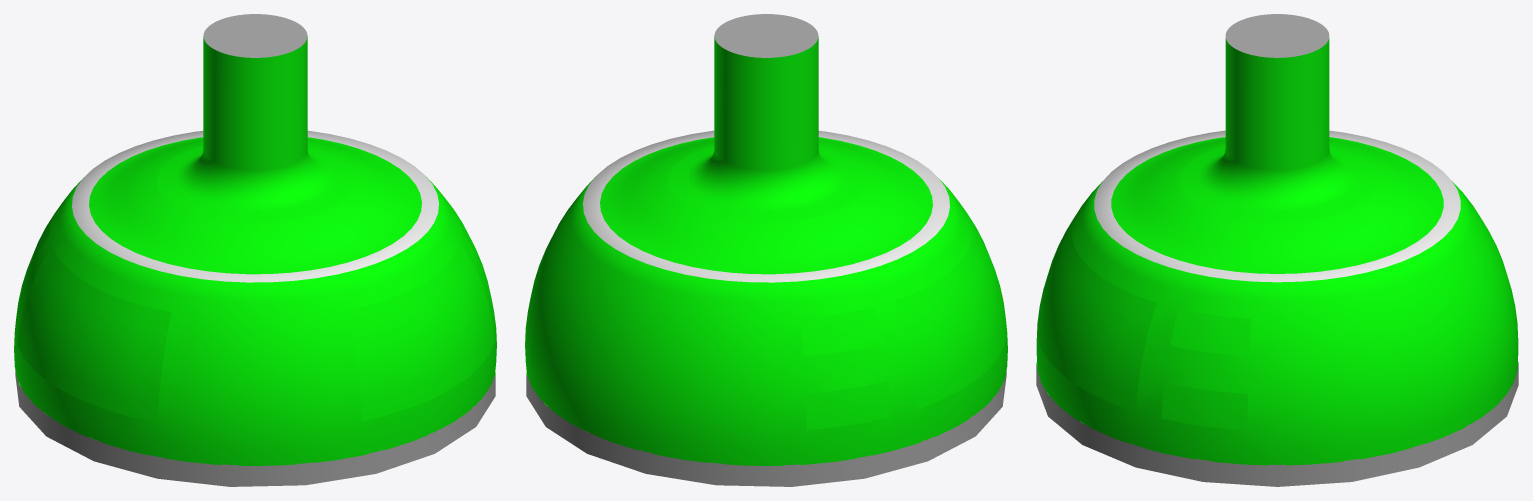
File: Dome2.fbx
3 renders of one model, left to right at view 1: azimuth 30°, elevation 25°; view 2: azimuth 150°, elevation 25°; view 3: azimuth 270°, elevation 25°, orthographic.
Visible parts, largest first — view 1: polySurface1, polySurface3, polySurface4, Floor; view 2: polySurface1, polySurface3, Floor, polySurface2, polySurface6; view 3: polySurface1, polySurface4, Floor, polySurface5, polySurface7.
Boxes of the visible parts, x1=… form: polySurface1: x1=14, y1=14, x2=496, y2=465; polySurface3: x1=17, y1=246, x2=171, y2=422; polySurface4: x1=347, y1=242, x2=494, y2=420; Floor: x1=15, y1=370, x2=495, y2=486; polySurface1: x1=525, y1=14, x2=1007, y2=465; polySurface3: x1=894, y1=224, x2=1007, y2=409; Floor: x1=526, y1=370, x2=1006, y2=486; polySurface2: x1=805, y1=381, x2=891, y2=430; polySurface6: x1=801, y1=307, x2=881, y2=356; polySurface1: x1=1036, y1=14, x2=1518, y2=465; polySurface4: x1=1037, y1=227, x2=1156, y2=411; Floor: x1=1036, y1=362, x2=1518, y2=486; polySurface5: x1=1161, y1=382, x2=1247, y2=430; polySurface7: x1=1170, y1=308, x2=1251, y2=356.
Bounding box in the file's own units: 0.2 × 0.1597 × 0.2.
